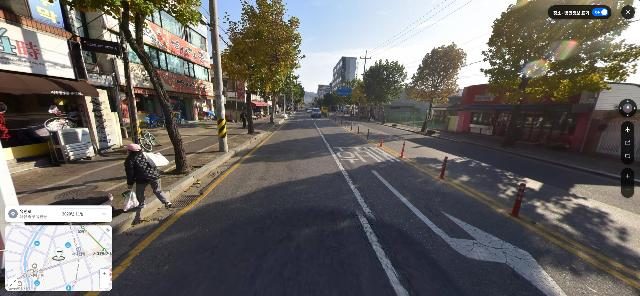other: (56, 0, 207, 175), (477, 0, 640, 149), (220, 0, 305, 135), (408, 43, 467, 133), (363, 58, 409, 124), (260, 80, 284, 124), (349, 81, 374, 120), (333, 96, 350, 116)
